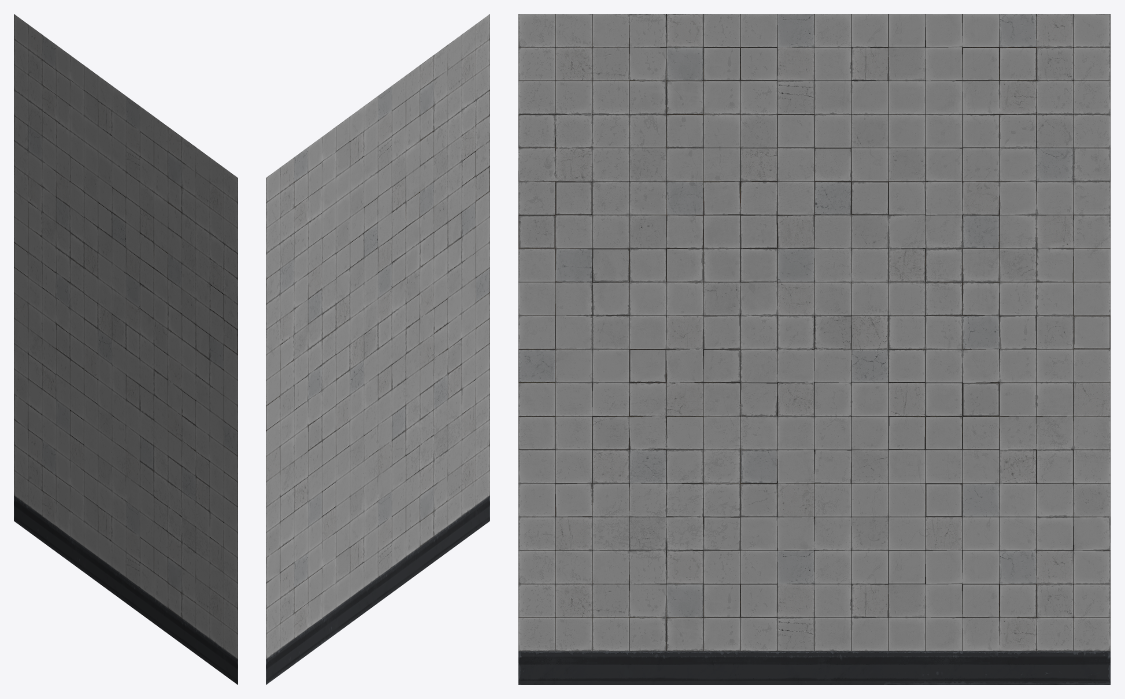
The model's file is CP_Metro_Wall_B_4x5m.fbx.
The picture shows the model from 3 angles, left to right: view 1: azimuth 30°, elevation 25°; view 2: azimuth 150°, elevation 25°; view 3: azimuth 270°, elevation 25°; orthographic projection. The views are drawn at different scales.
Parts seen in each view (by area): view 1: CP_Metro_Wall_B_4x5m; view 2: CP_Metro_Wall_B_4x5m; view 3: CP_Metro_Wall_B_4x5m.
Part boxes in pixels (<box>): CP_Metro_Wall_B_4x5m: <box>14,14,237,684</box>; CP_Metro_Wall_B_4x5m: <box>266,14,489,684</box>; CP_Metro_Wall_B_4x5m: <box>518,14,1110,684</box>.
Size of the model in its own units: 1.51e-05 by 500 by 400.
